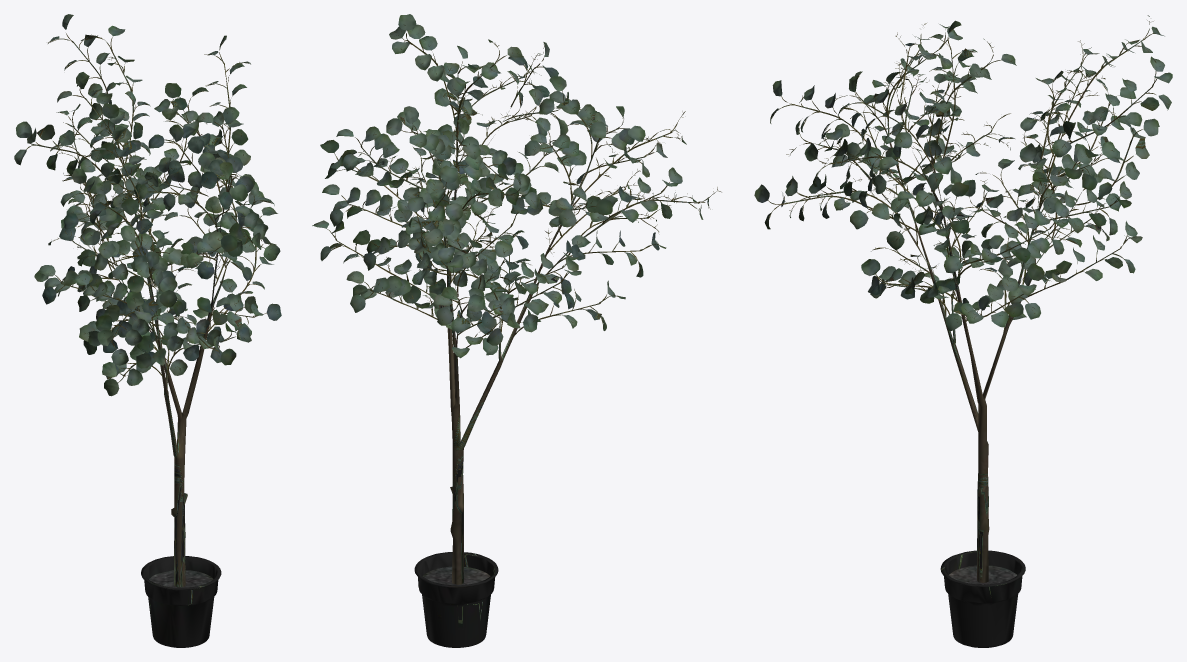
Rendered from LB-PLANT-04.glb.
3 renders of one model, left to right at view 1: azimuth 30°, elevation 25°; view 2: azimuth 150°, elevation 25°; view 3: azimuth 270°, elevation 25°, orthographic. The views are drawn at different scales.
Visible parts, largest first — view 1: 1, 2, Cylinder001, Cylinder002, 3; view 2: 1, 2, Cylinder001, Cylinder002, 3; view 3: 1, 2, Cylinder001, Cylinder002, 3.
Part boxes in pixels (x1,y1,x2,y2): 1: (14, 14, 281, 396); 2: (18, 28, 277, 387); Cylinder001: (141, 556, 221, 647); Cylinder002: (84, 164, 250, 587); 3: (149, 570, 213, 587); 1: (312, 14, 708, 358); 2: (323, 25, 721, 349); Cylinder001: (414, 552, 498, 647); Cylinder002: (434, 108, 621, 584); 3: (422, 566, 490, 585); 1: (754, 15, 1172, 331); 2: (759, 20, 1168, 332); Cylinder001: (940, 550, 1025, 647); Cylinder002: (860, 118, 1081, 582); 3: (948, 565, 1016, 584).
Bounding box in the file's own units: 0.7946 × 1.54 × 0.944.
Materials: 1 (1 with a texture image).
